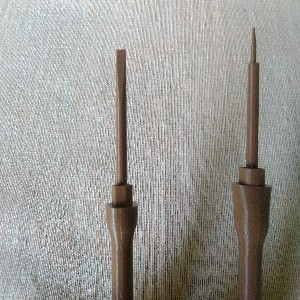obeng: (105, 47, 139, 300)
solder: (229, 26, 273, 300)
